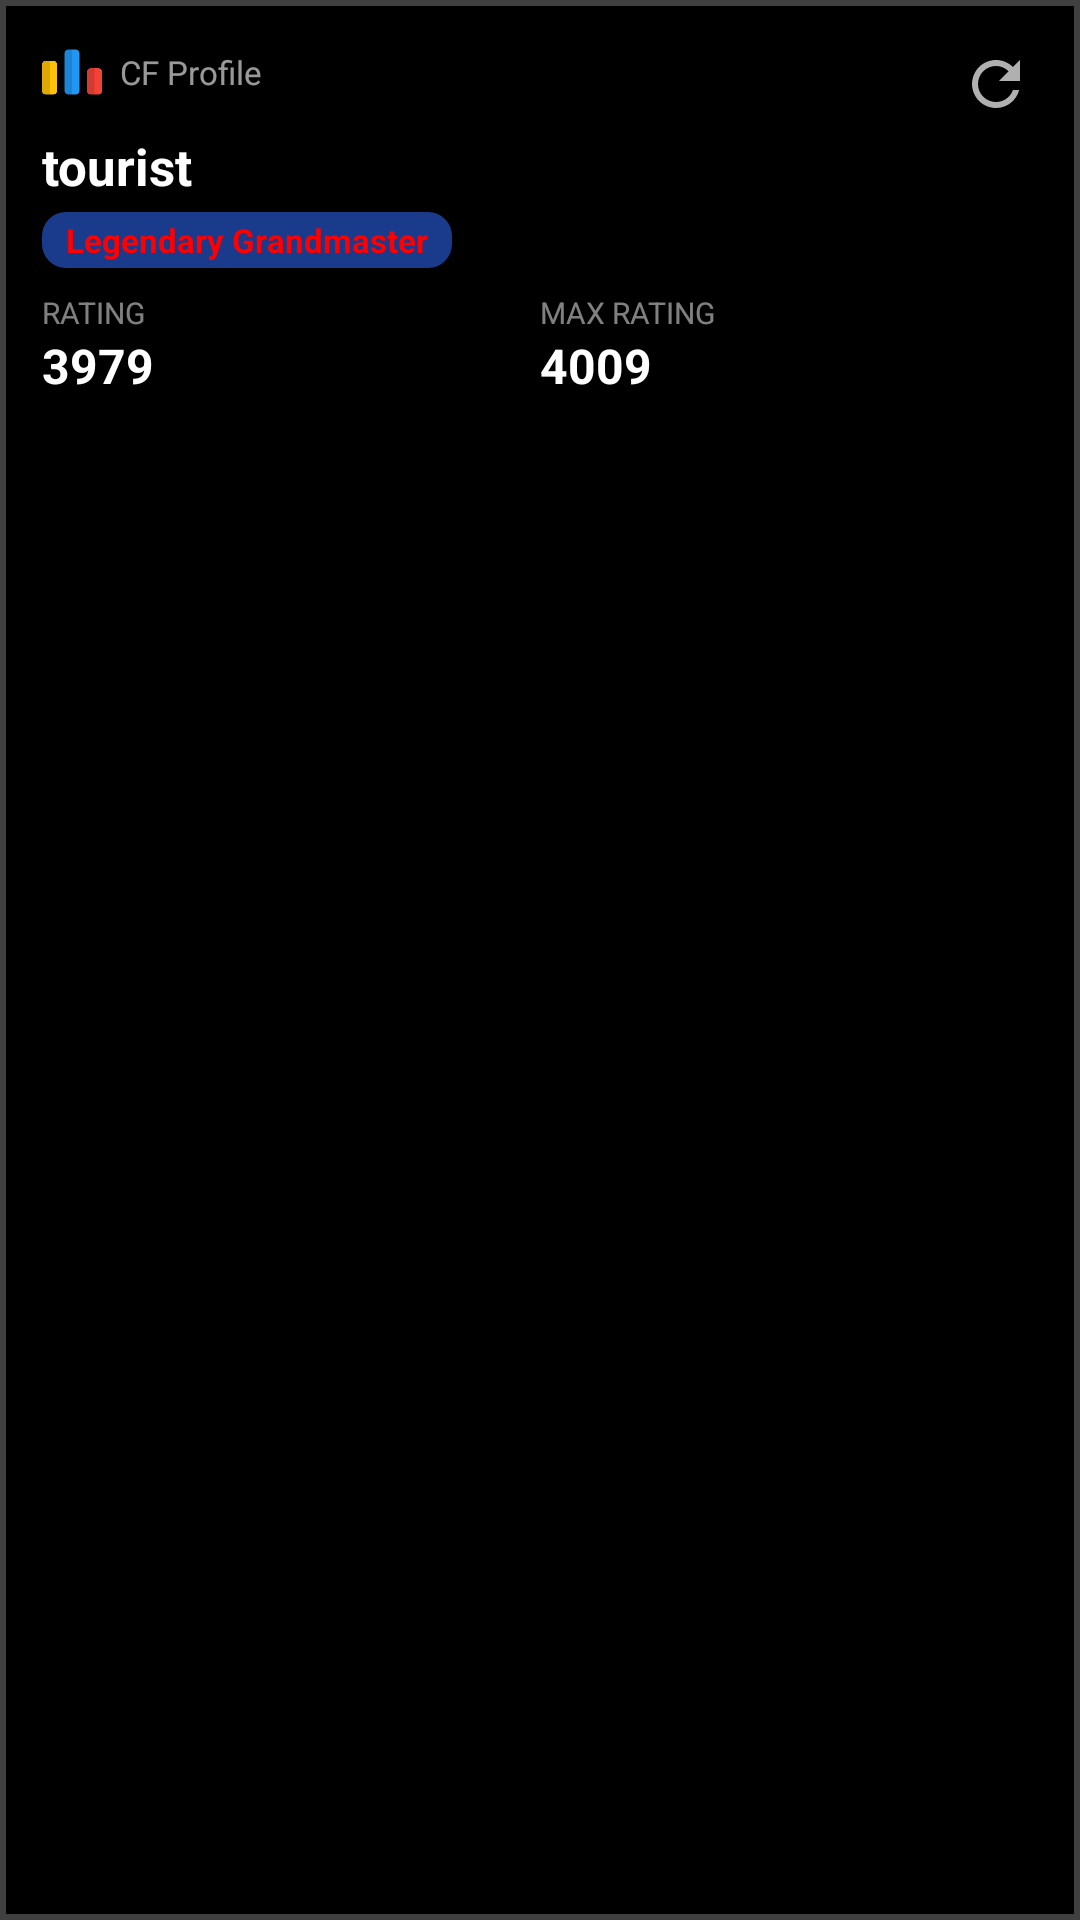

Point at icon controls on the screen. Image size 1080px x 1920px, points as (x=x, y=y).
Refresh widget: (x=996, y=84)
